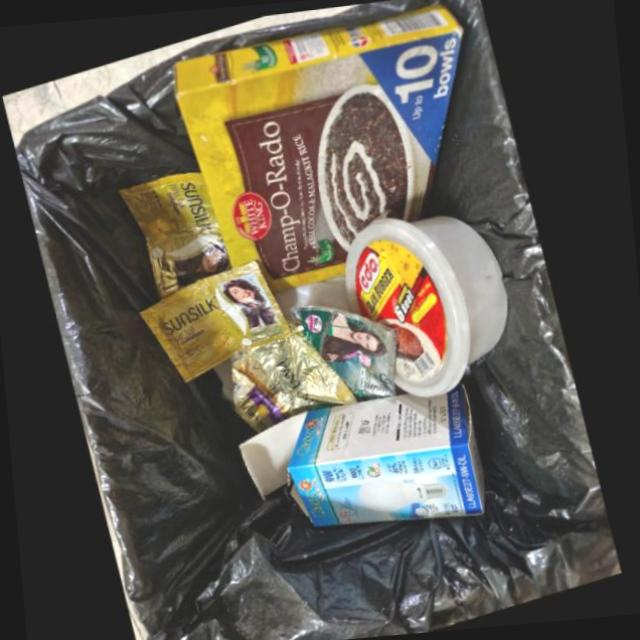carton: (174, 1, 463, 289), (241, 379, 487, 523)
goi_nhua_nho: (140, 256, 294, 377), (119, 167, 233, 294), (231, 317, 359, 429), (291, 301, 399, 399)
hop_nhua: (346, 212, 510, 394)
